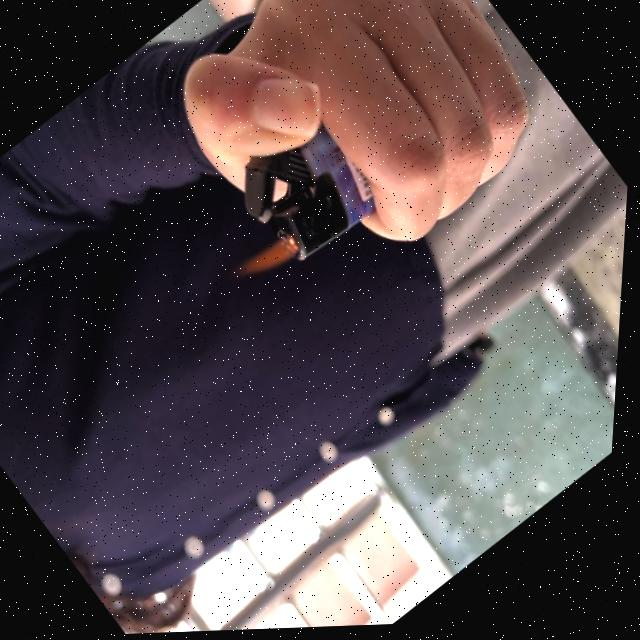Fire: (225, 222, 311, 300)
